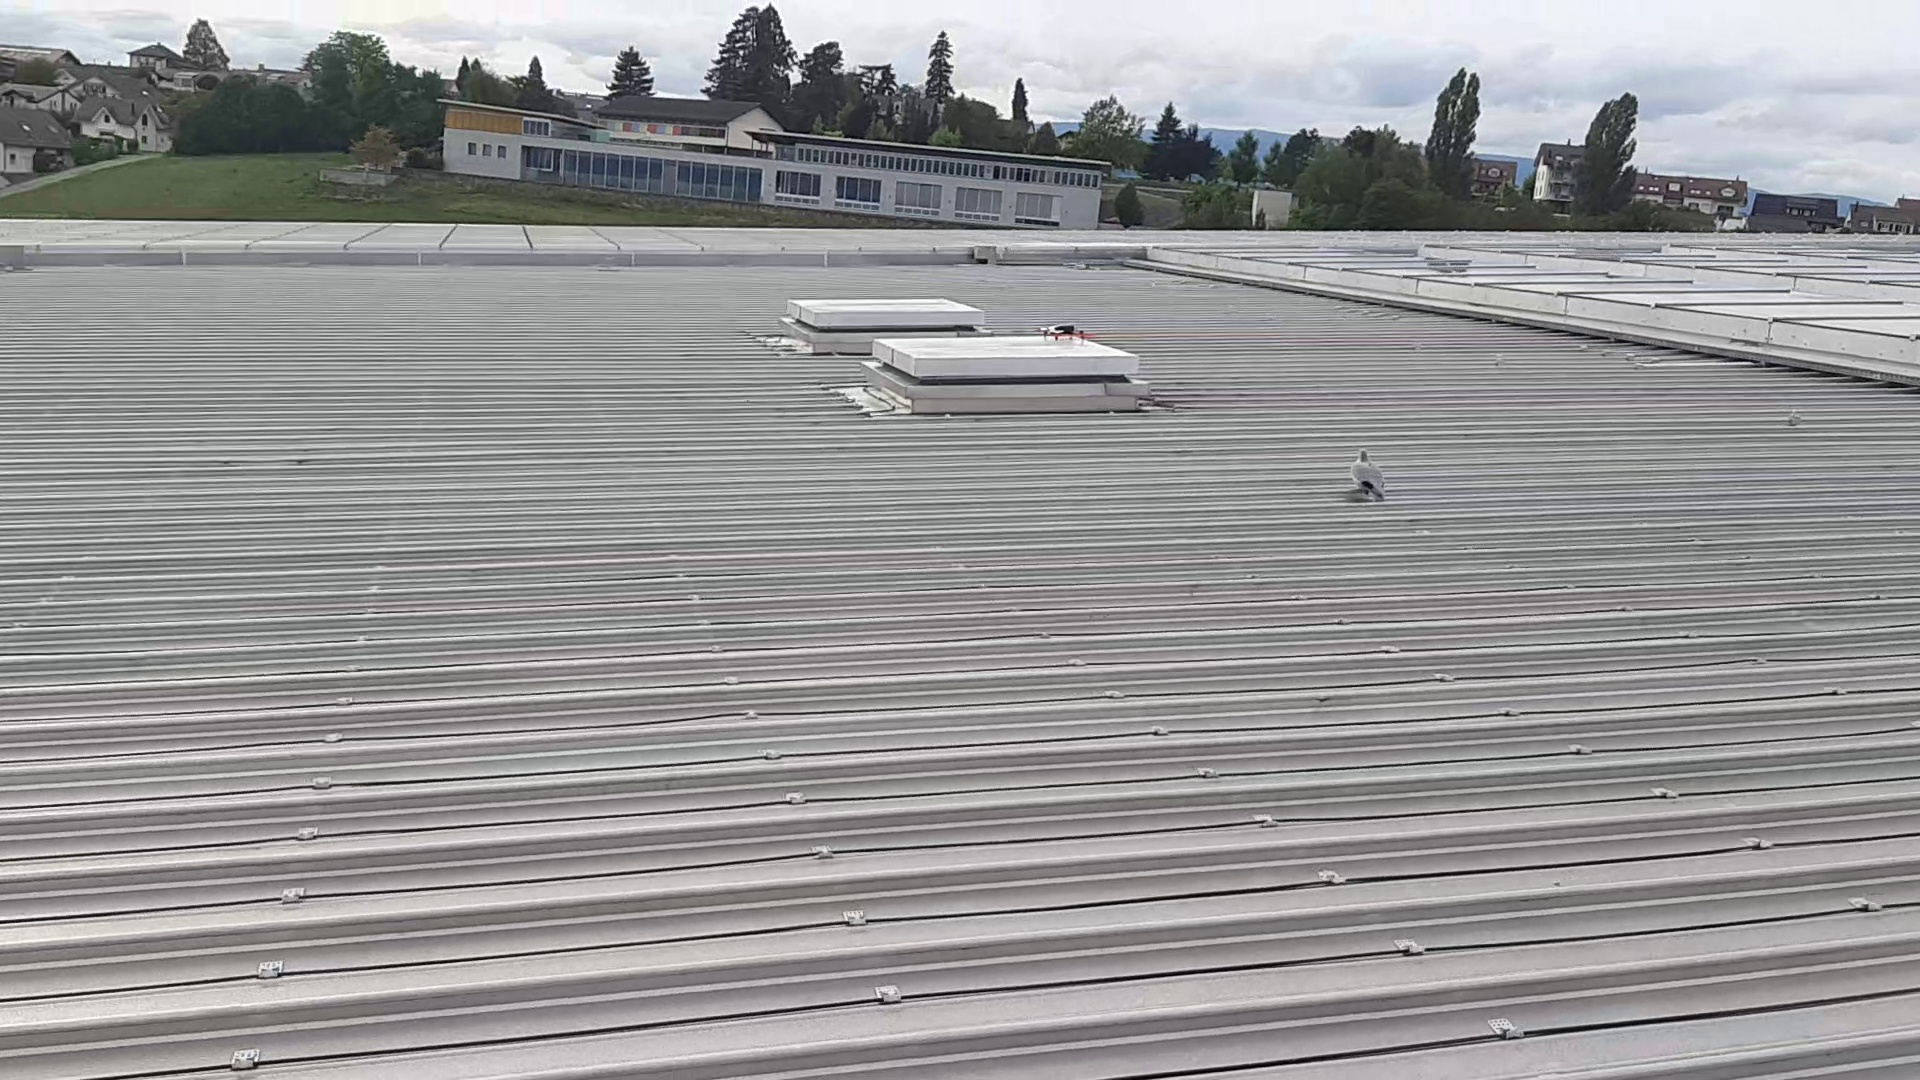Pigeon: (1342, 447, 1396, 501)
